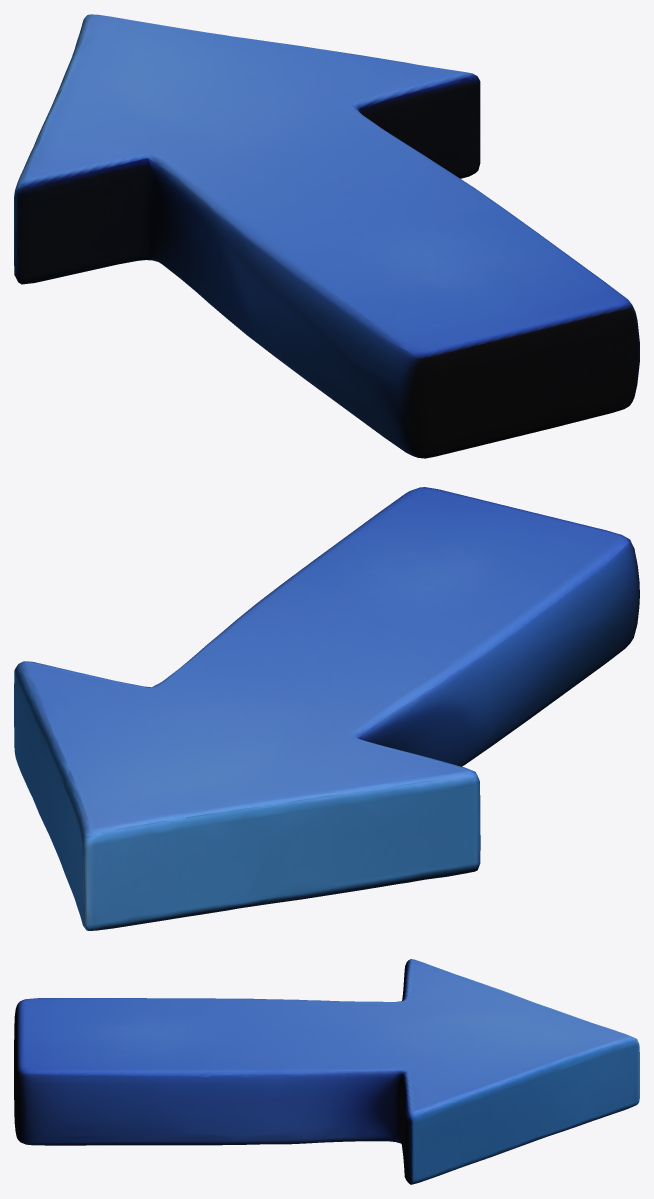
Rendered from arrow.glb.
3 views of the same model, one above another, from view 1: azimuth 30°, elevation 25°; view 2: azimuth 150°, elevation 25°; view 3: azimuth 270°, elevation 25° (orthographic). The views are drawn at different scales.
Visible parts, largest first — view 1: geometry_0; view 2: geometry_0; view 3: geometry_0.
Part boxes in pixels (x1=…): geometry_0: x1=14, y1=14, x2=639, y2=458; geometry_0: x1=14, y1=487, x2=639, y2=930; geometry_0: x1=14, y1=959, x2=639, y2=1184.
Size of the model in its own units: 0.6039 by 0.1335 by 0.9979.
Materials: 1 (1 with a texture image).
